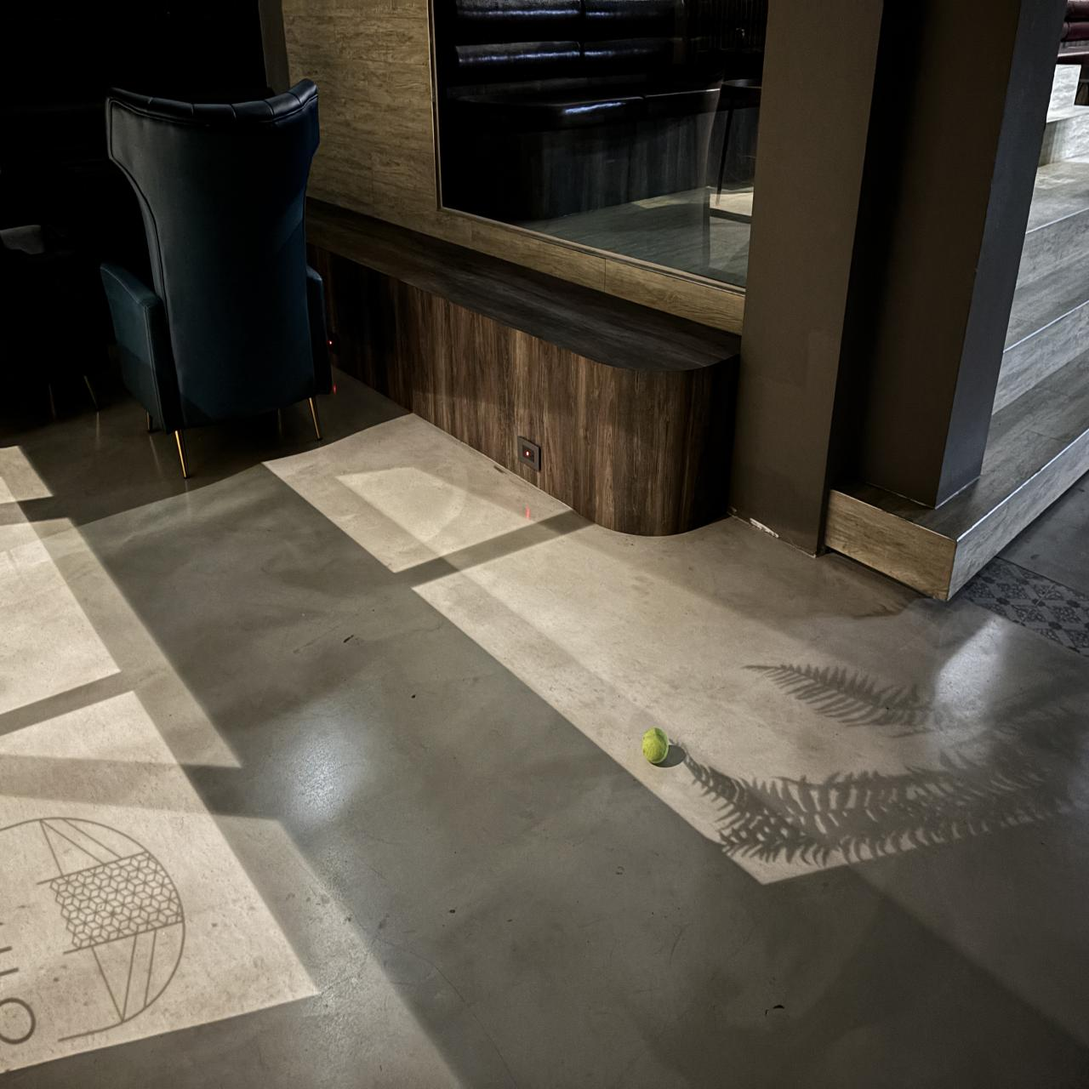tennisball: (642, 728, 669, 765)
